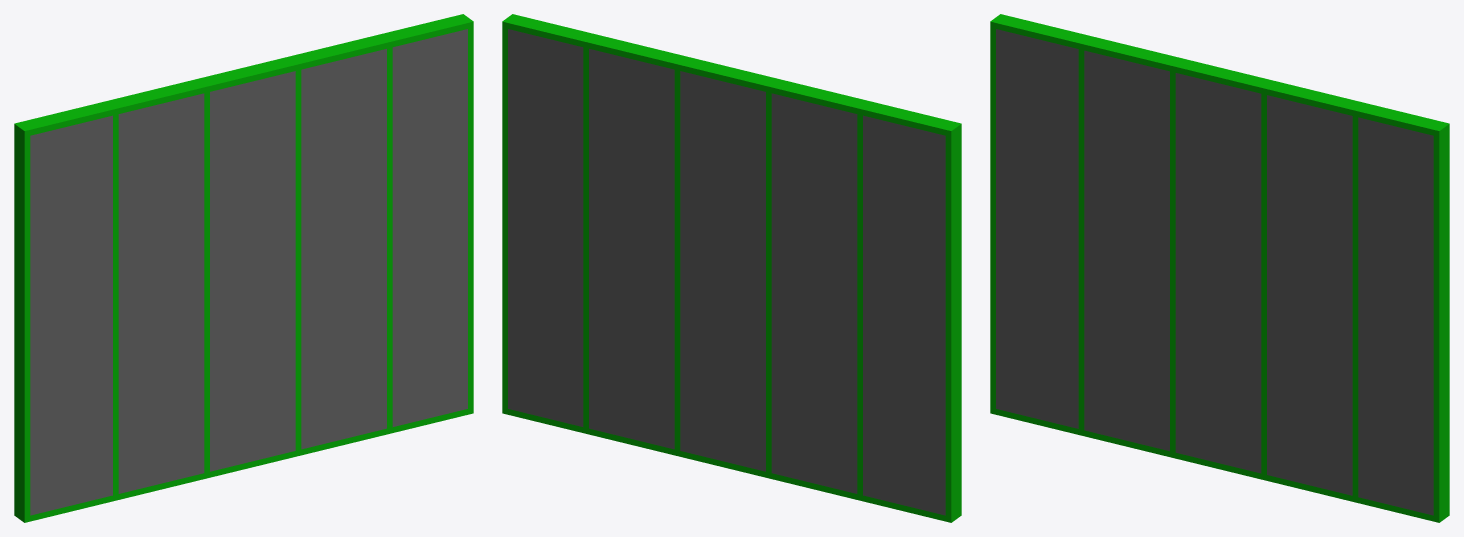
File: result.glb
3 views of the same model, side by side, from view 1: azimuth 30°, elevation 25°; view 2: azimuth 150°, elevation 25°; view 3: azimuth 330°, elevation 25° (orthographic).
Parts seen in each view (by area): view 1: afe8265b-f98a-4850-88ef-bf4c4c7bc3e2__undefined, 58108b2b-69e7-49b7-8d22-7f6474fe910e__undefined, 39847c21-844d-4f23-8174-a58066b5cabd__undefined, 59edd0be-8eff-455a-b50a-baab9d0c085b__undefined, 598bbe4d-92ae-4e8c-863d-ed936cac3fd4__undefined, 64f114e0-6454-445c-9c7a-e1e81a1bd157__undefined, 6d52eed9-ff6c-4859-9ba5-15286c2de69d__undefined, 01f890e2-c66c-401a-bb45-0089a379669b__undefined, a119dd3d-1276-4a3d-a1c9-b54a51061105__undefined, e9192152-05d9-4291-b7b1-f5cf4f8b50ab__undefined, d51ca904-cef9-4f9d-bc72-1f72b7470414__undefined, 6c06ccee-9116-44c7-bb98-992153eaf2c3__undefined (+1 smaller); view 2: afe8265b-f98a-4850-88ef-bf4c4c7bc3e2__undefined, 58108b2b-69e7-49b7-8d22-7f6474fe910e__undefined, 39847c21-844d-4f23-8174-a58066b5cabd__undefined, 59edd0be-8eff-455a-b50a-baab9d0c085b__undefined, 598bbe4d-92ae-4e8c-863d-ed936cac3fd4__undefined, 64f114e0-6454-445c-9c7a-e1e81a1bd157__undefined, 6d52eed9-ff6c-4859-9ba5-15286c2de69d__undefined, 01f890e2-c66c-401a-bb45-0089a379669b__undefined, a119dd3d-1276-4a3d-a1c9-b54a51061105__undefined, e9192152-05d9-4291-b7b1-f5cf4f8b50ab__undefined, d51ca904-cef9-4f9d-bc72-1f72b7470414__undefined, 6c06ccee-9116-44c7-bb98-992153eaf2c3__undefined (+1 smaller); view 3: 58108b2b-69e7-49b7-8d22-7f6474fe910e__undefined, 39847c21-844d-4f23-8174-a58066b5cabd__undefined, afe8265b-f98a-4850-88ef-bf4c4c7bc3e2__undefined, 59edd0be-8eff-455a-b50a-baab9d0c085b__undefined, 598bbe4d-92ae-4e8c-863d-ed936cac3fd4__undefined, 64f114e0-6454-445c-9c7a-e1e81a1bd157__undefined, d51ca904-cef9-4f9d-bc72-1f72b7470414__undefined, 01f890e2-c66c-401a-bb45-0089a379669b__undefined, 6c06ccee-9116-44c7-bb98-992153eaf2c3__undefined, e9192152-05d9-4291-b7b1-f5cf4f8b50ab__undefined, d80f0f71-86aa-4e2c-af7f-3a481a08f475__undefined, 6d52eed9-ff6c-4859-9ba5-15286c2de69d__undefined (+1 smaller).
Boxes of the visible parts, bbox=[...] form: afe8265b-f98a-4850-88ef-bf4c4c7bc3e2__undefined: bbox=[118, 93, 204, 493]; 58108b2b-69e7-49b7-8d22-7f6474fe910e__undefined: bbox=[210, 71, 295, 471]; 39847c21-844d-4f23-8174-a58066b5cabd__undefined: bbox=[301, 49, 386, 449]; 59edd0be-8eff-455a-b50a-baab9d0c085b__undefined: bbox=[30, 115, 112, 515]; 598bbe4d-92ae-4e8c-863d-ed936cac3fd4__undefined: bbox=[392, 29, 467, 426]; 64f114e0-6454-445c-9c7a-e1e81a1bd157__undefined: bbox=[14, 14, 473, 136]; 6d52eed9-ff6c-4859-9ba5-15286c2de69d__undefined: bbox=[14, 130, 30, 516]; 01f890e2-c66c-401a-bb45-0089a379669b__undefined: bbox=[14, 407, 473, 522]; a119dd3d-1276-4a3d-a1c9-b54a51061105__undefined: bbox=[295, 70, 301, 450]; e9192152-05d9-4291-b7b1-f5cf4f8b50ab__undefined: bbox=[387, 47, 392, 428]; d51ca904-cef9-4f9d-bc72-1f72b7470414__undefined: bbox=[468, 27, 473, 408]; 6c06ccee-9116-44c7-bb98-992153eaf2c3__undefined: bbox=[113, 114, 118, 495]; afe8265b-f98a-4850-88ef-bf4c4c7bc3e2__undefined: bbox=[771, 93, 857, 493]; 58108b2b-69e7-49b7-8d22-7f6474fe910e__undefined: bbox=[680, 71, 765, 471]; 39847c21-844d-4f23-8174-a58066b5cabd__undefined: bbox=[589, 49, 674, 449]; 59edd0be-8eff-455a-b50a-baab9d0c085b__undefined: bbox=[863, 115, 945, 515]; 598bbe4d-92ae-4e8c-863d-ed936cac3fd4__undefined: bbox=[508, 29, 583, 426]; 64f114e0-6454-445c-9c7a-e1e81a1bd157__undefined: bbox=[502, 14, 961, 136]; 6d52eed9-ff6c-4859-9ba5-15286c2de69d__undefined: bbox=[945, 130, 961, 516]; 01f890e2-c66c-401a-bb45-0089a379669b__undefined: bbox=[502, 407, 961, 522]; a119dd3d-1276-4a3d-a1c9-b54a51061105__undefined: bbox=[674, 70, 680, 450]; e9192152-05d9-4291-b7b1-f5cf4f8b50ab__undefined: bbox=[583, 47, 588, 428]; d51ca904-cef9-4f9d-bc72-1f72b7470414__undefined: bbox=[502, 27, 507, 408]; 6c06ccee-9116-44c7-bb98-992153eaf2c3__undefined: bbox=[857, 114, 862, 495]; 58108b2b-69e7-49b7-8d22-7f6474fe910e__undefined: bbox=[1175, 73, 1261, 473]; 39847c21-844d-4f23-8174-a58066b5cabd__undefined: bbox=[1267, 95, 1352, 495]; afe8265b-f98a-4850-88ef-bf4c4c7bc3e2__undefined: bbox=[1084, 50, 1169, 451]; 59edd0be-8eff-455a-b50a-baab9d0c085b__undefined: bbox=[996, 29, 1078, 428]; 598bbe4d-92ae-4e8c-863d-ed936cac3fd4__undefined: bbox=[1358, 117, 1433, 515]; 64f114e0-6454-445c-9c7a-e1e81a1bd157__undefined: bbox=[990, 14, 1449, 136]; d51ca904-cef9-4f9d-bc72-1f72b7470414__undefined: bbox=[1433, 130, 1449, 516]; 01f890e2-c66c-401a-bb45-0089a379669b__undefined: bbox=[990, 407, 1449, 522]; 6c06ccee-9116-44c7-bb98-992153eaf2c3__undefined: bbox=[1078, 49, 1084, 430]; e9192152-05d9-4291-b7b1-f5cf4f8b50ab__undefined: bbox=[1352, 116, 1358, 496]; d80f0f71-86aa-4e2c-af7f-3a481a08f475__undefined: bbox=[1170, 71, 1175, 452]; 6d52eed9-ff6c-4859-9ba5-15286c2de69d__undefined: bbox=[990, 27, 995, 408].
Bounding box in the file's own units: 3000 × 2500 × 120.
